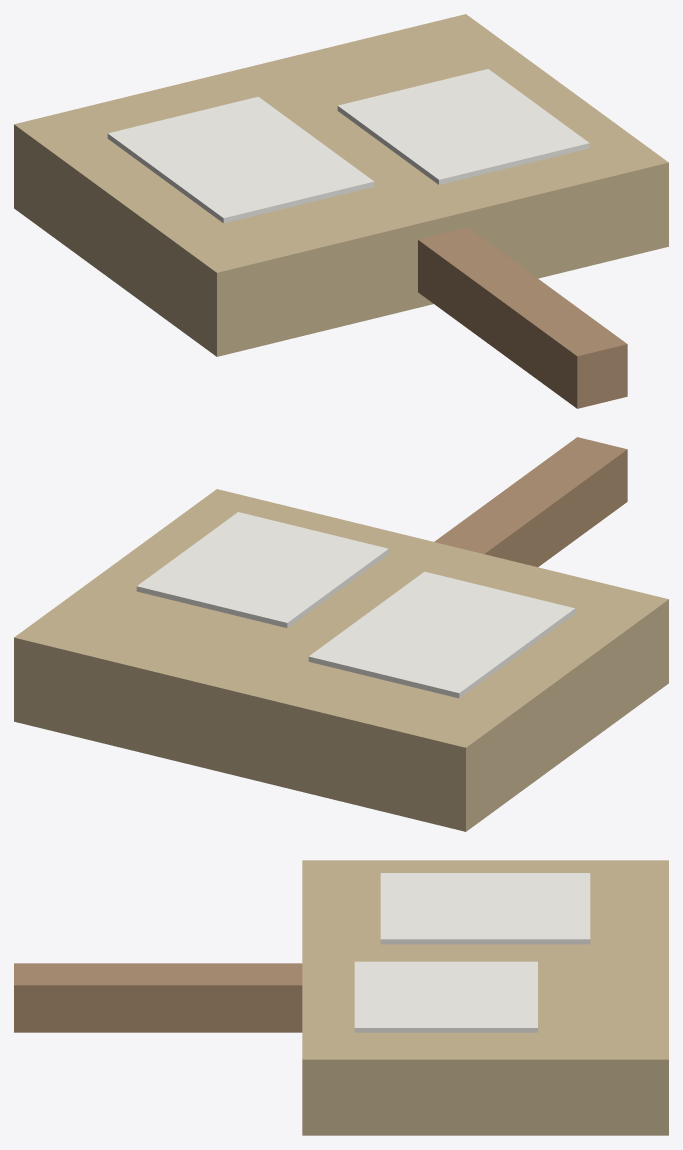
Rendered from board_held.gltf.
3 views of the same model, one above another, from view 1: azimuth 30°, elevation 25°; view 2: azimuth 150°, elevation 25°; view 3: azimuth 270°, elevation 25° (orthographic). The views are drawn at different scales.
Visible parts, largest first — view 1: villagers_board_held; view 2: villagers_board_held; view 3: villagers_board_held.
Part boxes in pixels (x1,y1,x2,y2): villagers_board_held: (14, 14, 668, 408); villagers_board_held: (14, 437, 668, 831); villagers_board_held: (14, 860, 668, 1135).
Bounding box in the file's own units: 0.144 × 0.0288 × 0.2.
